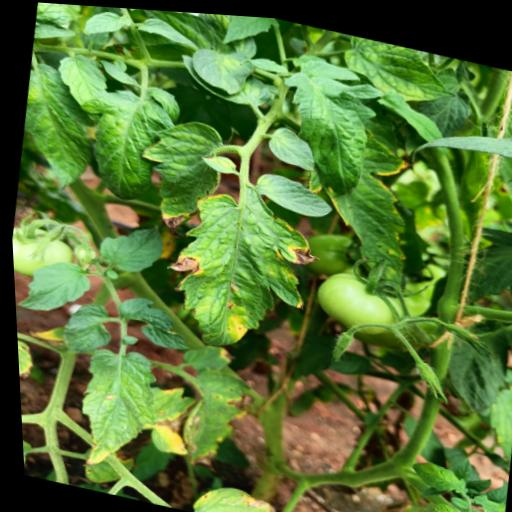Early Blight: (147, 176, 331, 370), (125, 107, 231, 245)
